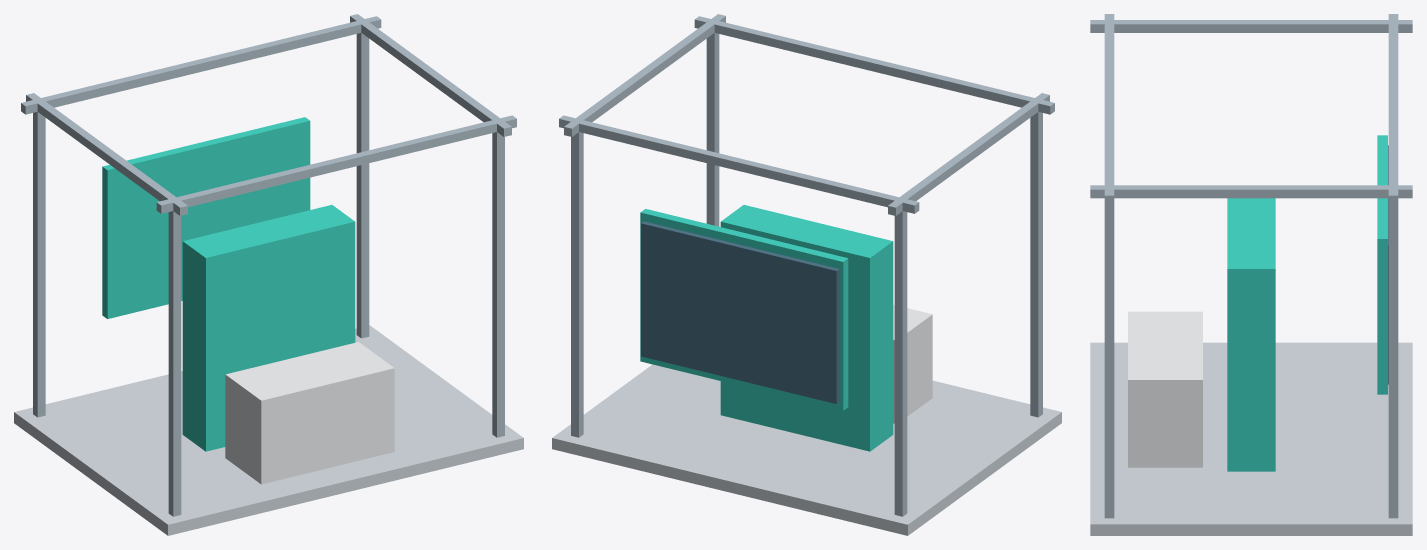
3 renders of one model, left to right at view 1: azimuth 30°, elevation 25°; view 2: azimuth 150°, elevation 25°; view 3: azimuth 270°, elevation 25°, orthographic. The views are drawn at different scales.
Visible parts, largest first — view 1: Exhibition Booth Concept; view 2: Exhibition Booth Concept; view 3: Exhibition Booth Concept.
Boxes of the visible parts, x1,y1,x2,y2 form: Exhibition Booth Concept: [14, 14, 523, 535]; Exhibition Booth Concept: [552, 14, 1061, 535]; Exhibition Booth Concept: [1090, 14, 1412, 535].
Size of the model in its own units: 4 by 3.49 by 3.
